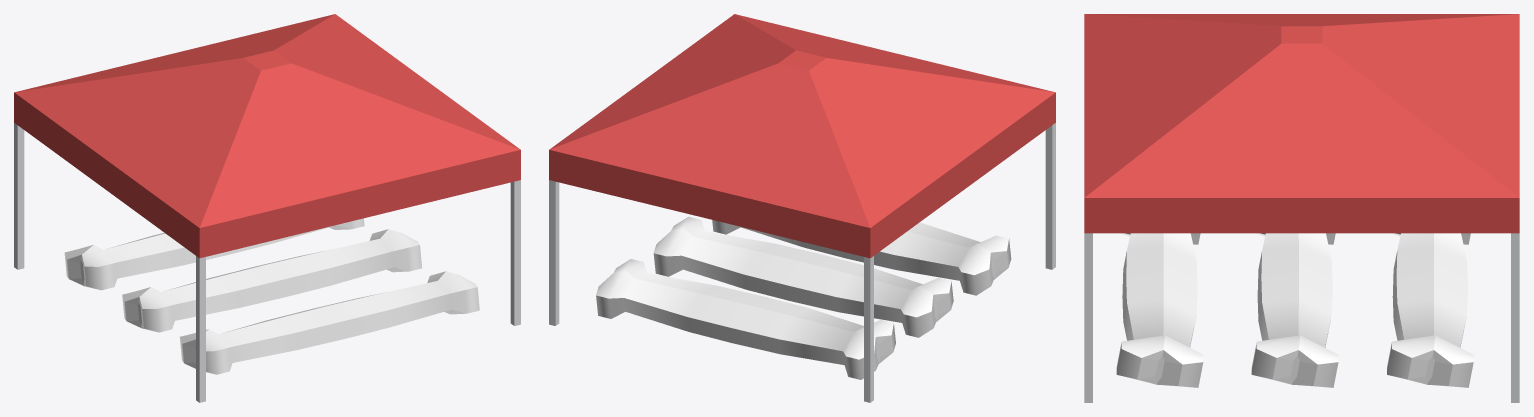
The model's file is tent_3.fbx.
3 renders of one model, left to right at view 1: azimuth 30°, elevation 25°; view 2: azimuth 150°, elevation 25°; view 3: azimuth 270°, elevation 25°, orthographic. The views are drawn at different scales.
Visible parts, largest first — view 1: tent_3; view 2: tent_3; view 3: tent_3.
Part boxes in pixels (<box>): tent_3: <box>14,14,520,402</box>; tent_3: <box>549,14,1055,402</box>; tent_3: <box>1084,14,1519,402</box>.
Bounding box in the file's own units: 1000 × 1000 × 707.
